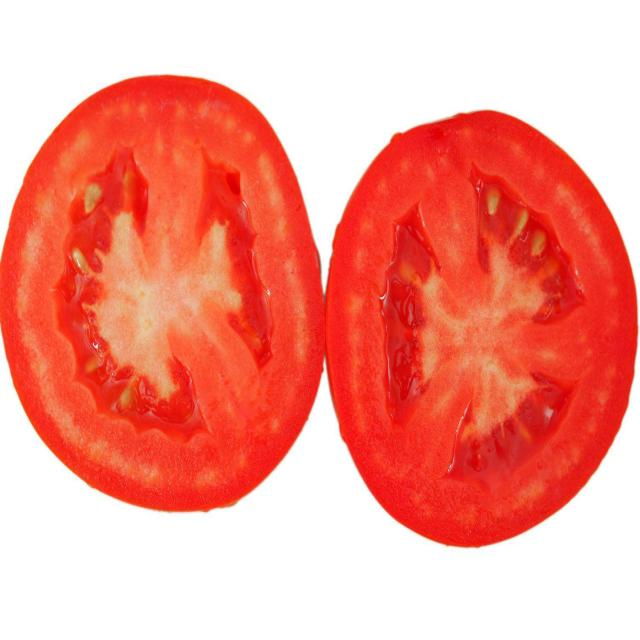Tomato: (6, 72, 328, 512), (324, 106, 634, 557)
